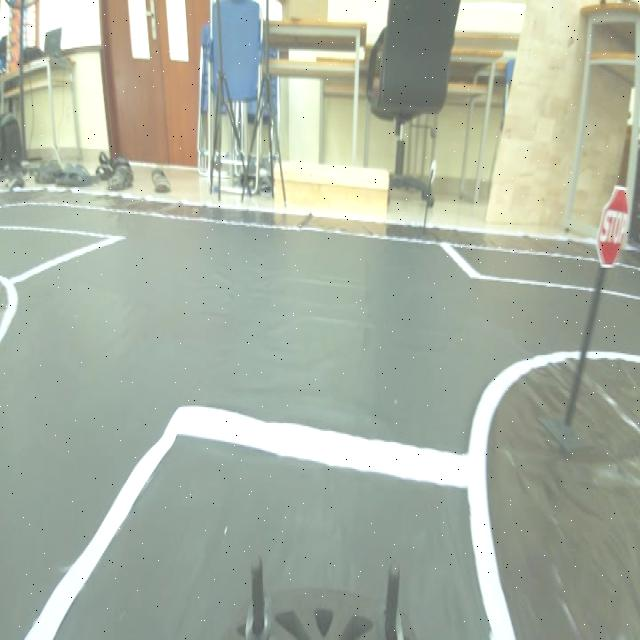stop: (592, 182, 628, 266)
